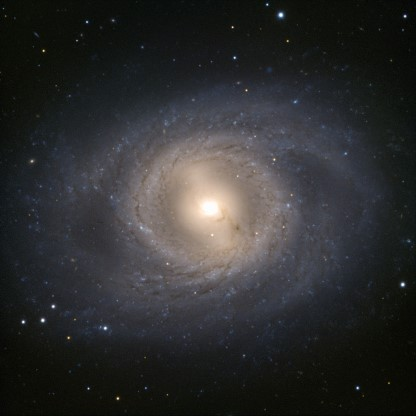Messier 95: (8, 69, 416, 358)
